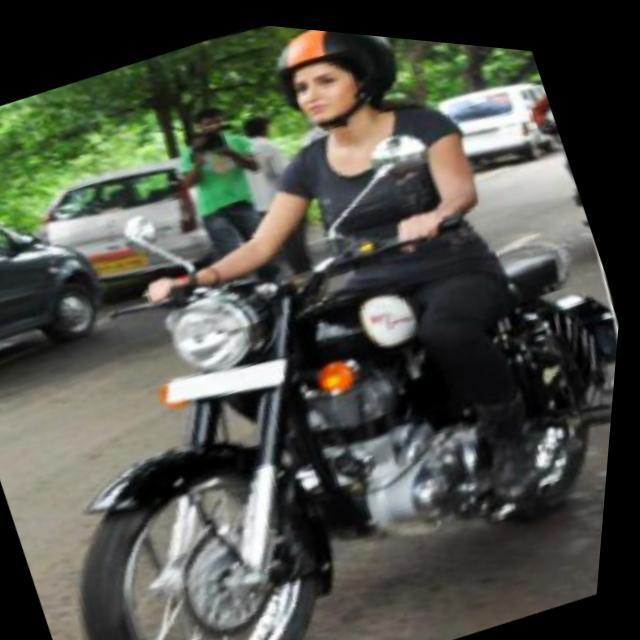Helmet: (266, 22, 393, 136)
